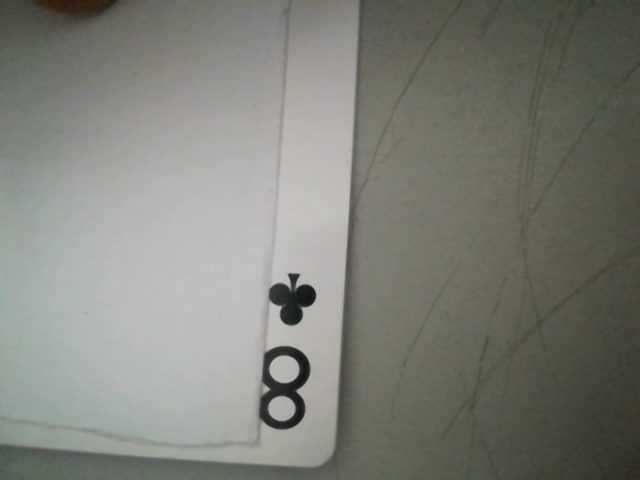mh 8: (244, 266, 335, 441)
